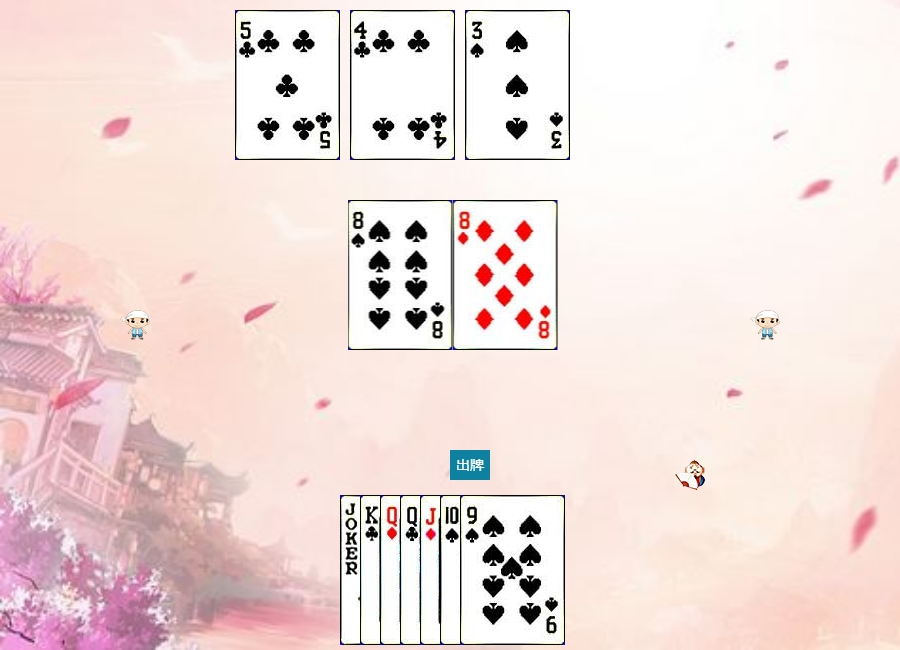10~4: (440, 495, 545, 645)
11~1: (420, 495, 525, 645)
12~1: (380, 495, 485, 645)
12~2: (400, 495, 505, 645)
13~2: (360, 495, 465, 645)
17~3: (340, 495, 445, 645)
3~4: (465, 10, 570, 160)
4~2: (350, 10, 455, 160)
5~2: (235, 10, 340, 160)
8~1: (453, 200, 558, 350)
8~4: (348, 200, 453, 350)
9~4: (460, 495, 565, 645)
